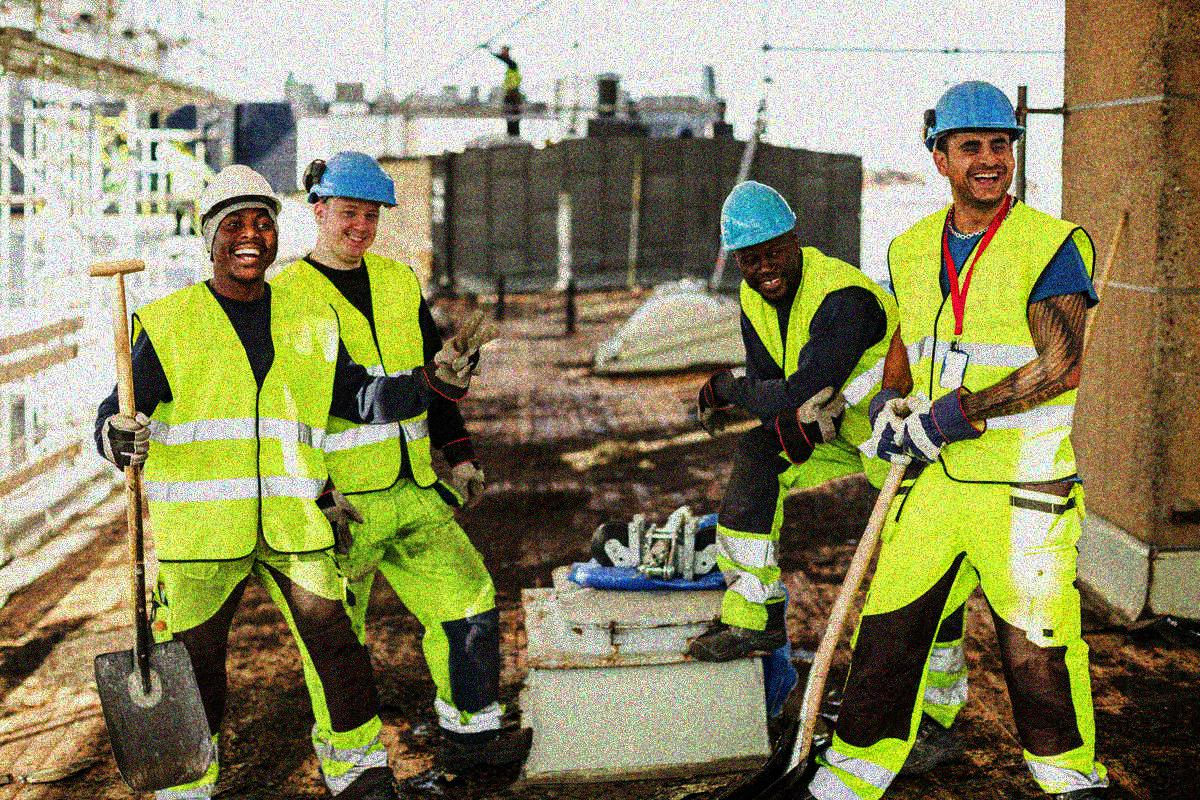helmet: (918, 77, 1030, 208), (188, 161, 290, 285), (298, 147, 399, 264), (715, 177, 799, 300)
